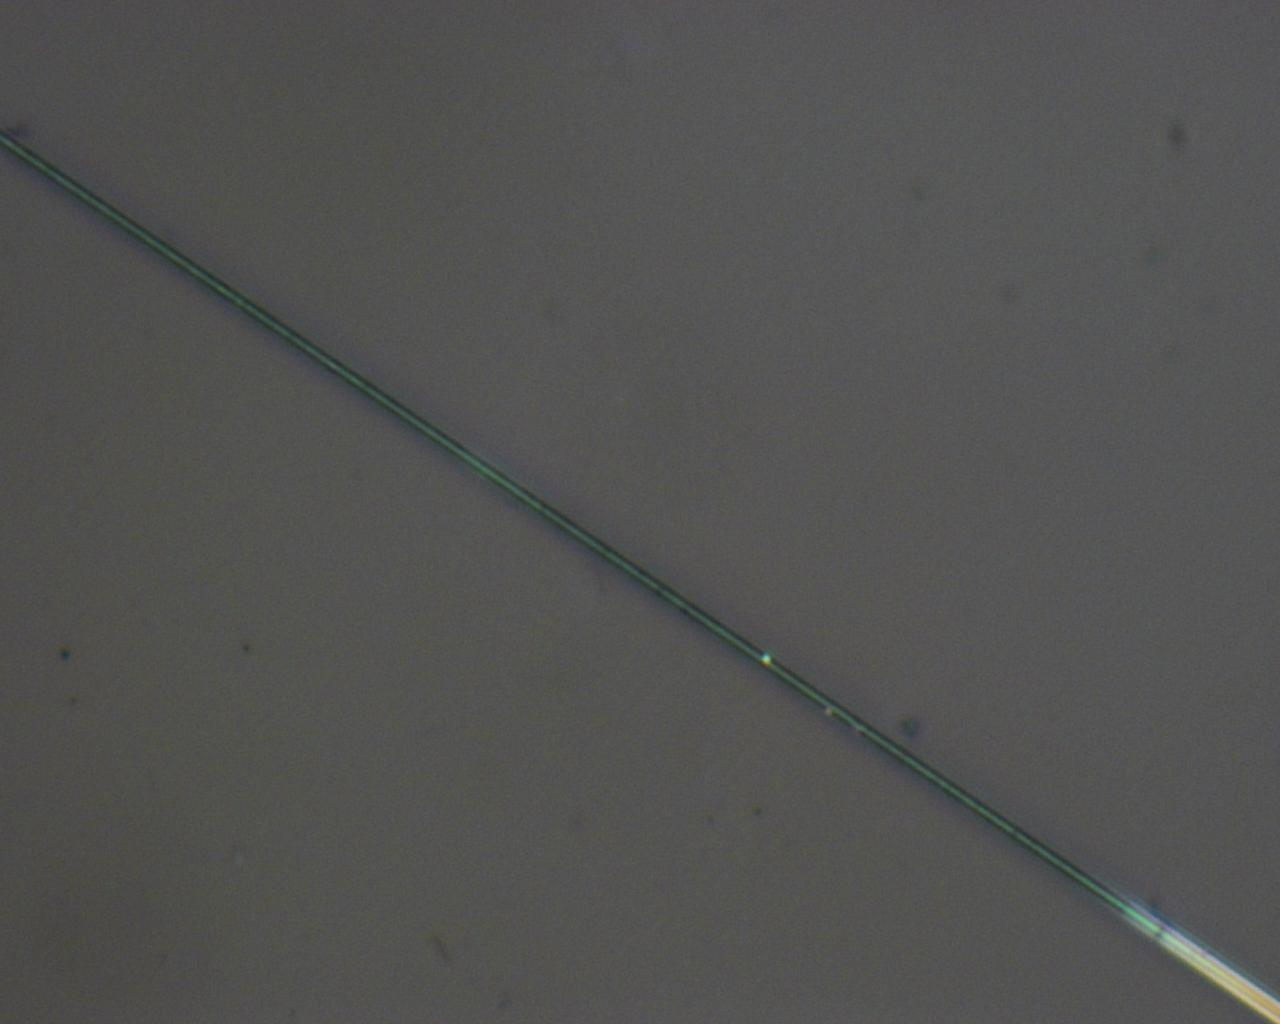fiber: (0, 127, 1279, 1024)
